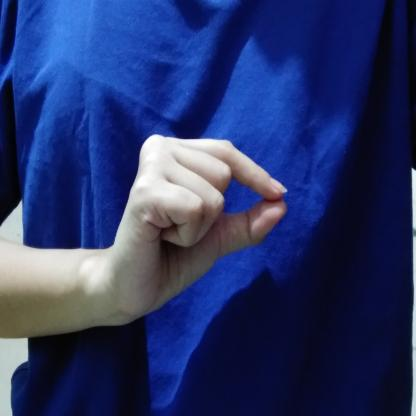nothing: (101, 127, 294, 334)
